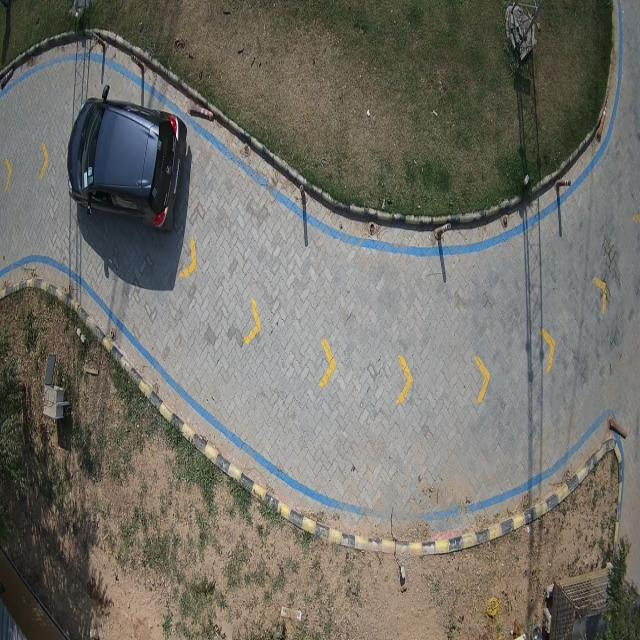car: (68, 87, 188, 230)
